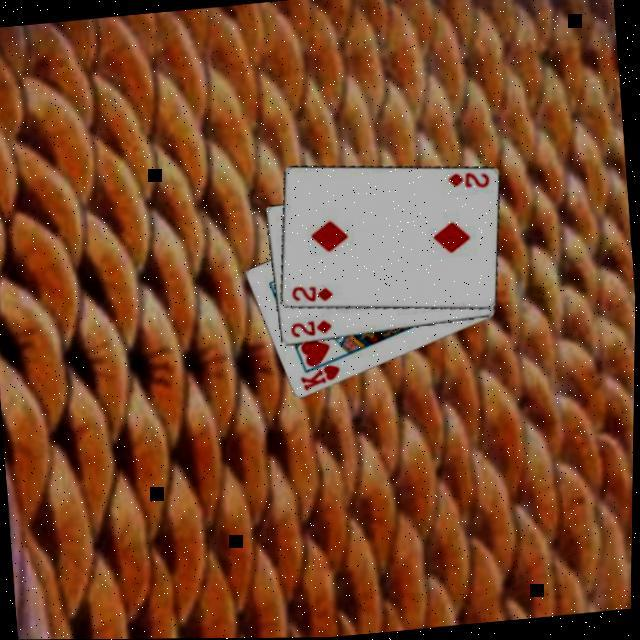2D: (286, 280, 334, 306), (444, 167, 492, 193), (286, 316, 334, 340)
KH: (296, 361, 344, 393)
